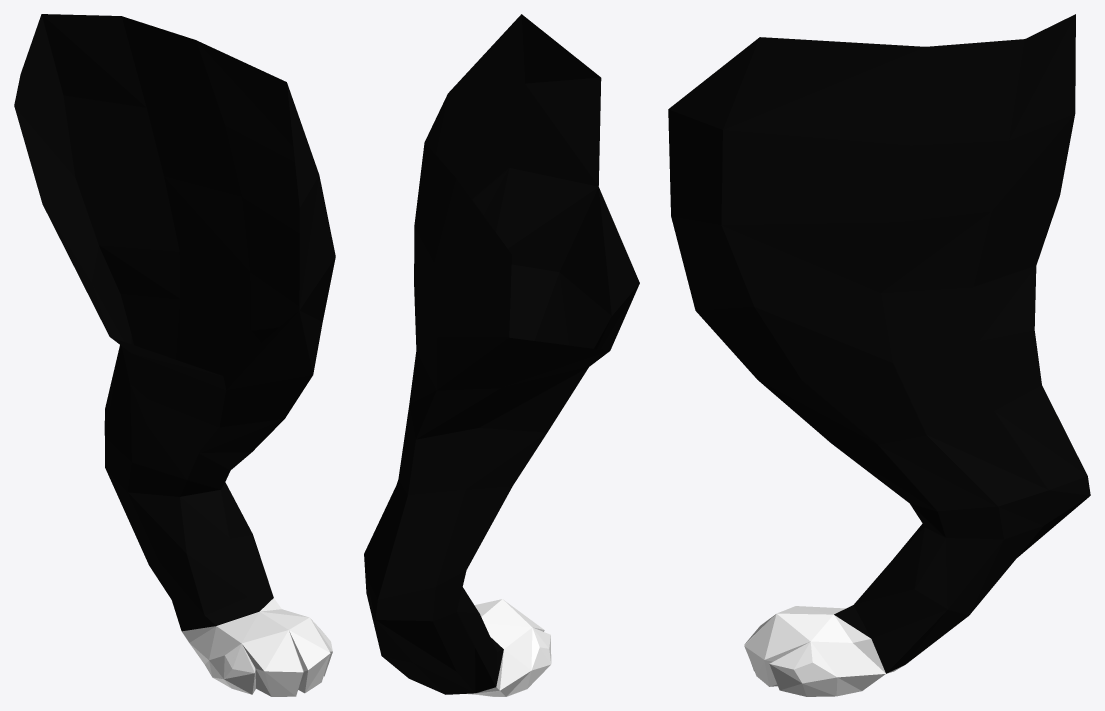
The model's file is patatrasizq.obj.
The picture shows the model from 3 angles, left to right: view 1: azimuth 30°, elevation 25°; view 2: azimuth 150°, elevation 25°; view 3: azimuth 270°, elevation 25°; orthographic projection. The views are drawn at different scales.
Parts seen in each view (by area): view 1: cat_01_color05.003; view 2: cat_01_color05.003; view 3: cat_01_color05.003.
Part boxes in pixels (x1,y1,x2,y2): cat_01_color05.003: [14, 14, 335, 696]; cat_01_color05.003: [364, 14, 639, 696]; cat_01_color05.003: [668, 14, 1090, 696].
Size of the model in its own units: 0.3873 by 1.17 by 0.7065.
Materials: 2 (2 with a texture image).
